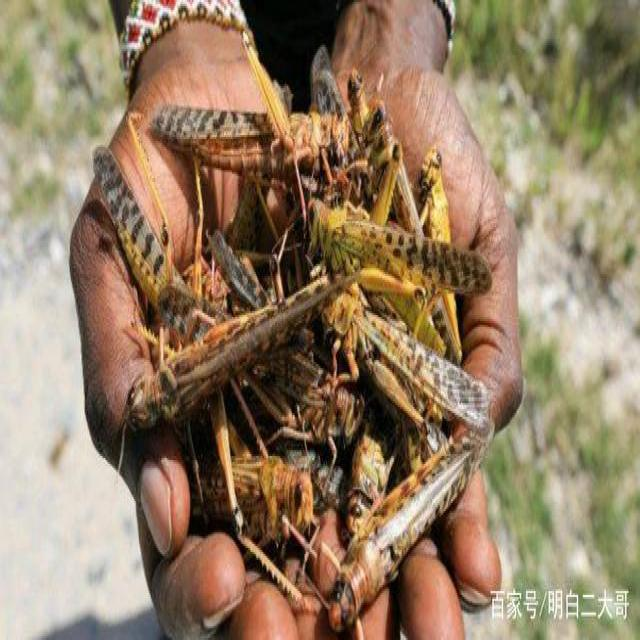ZhaMeng: (110, 265, 348, 429), (323, 419, 500, 635), (330, 271, 504, 453), (147, 49, 353, 202), (306, 188, 497, 321), (186, 447, 314, 556)
